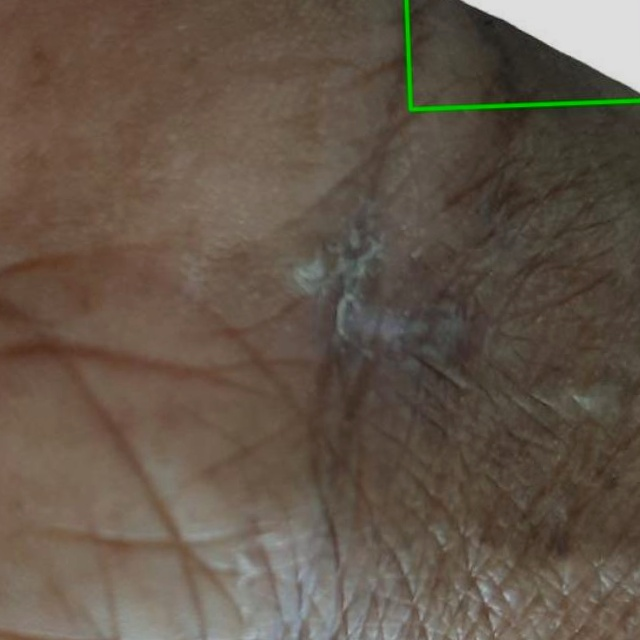Scabies: (406, 0, 639, 109)
